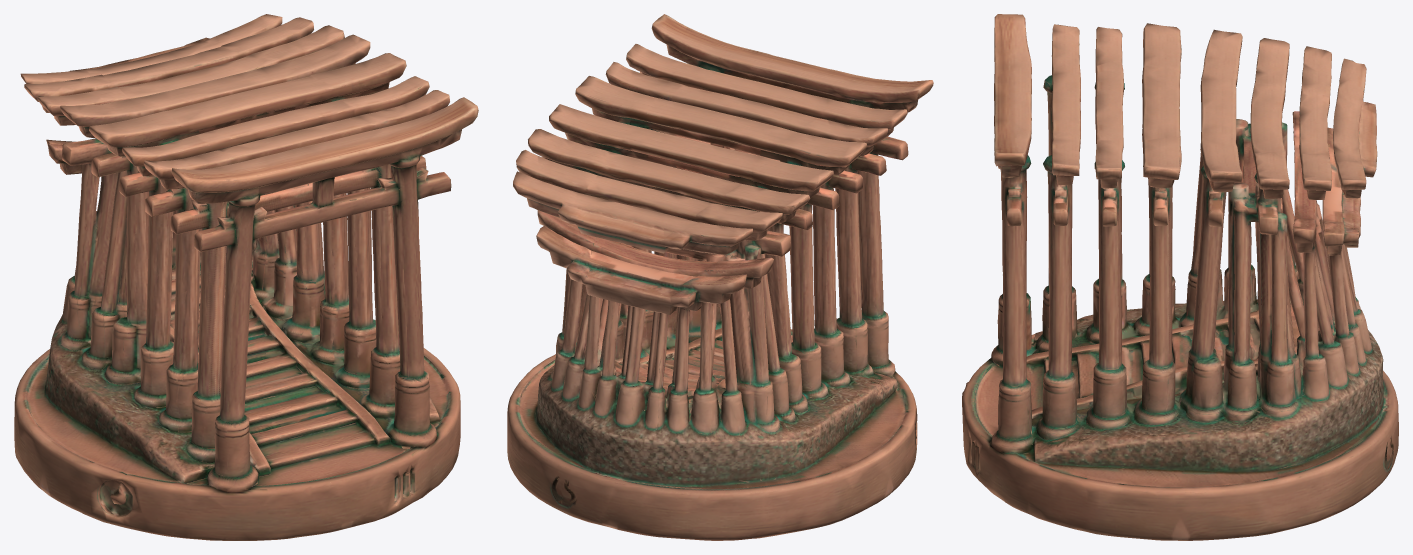
The model's file is fushimi_inari_bronze.glb.
3 renders of one model, left to right at view 1: azimuth 30°, elevation 25°; view 2: azimuth 150°, elevation 25°; view 3: azimuth 270°, elevation 25°, orthographic. The views are drawn at different scales.
Parts seen in each view (by area): view 1: Mesh_0; view 2: Mesh_0; view 3: Mesh_0.
Part boxes in pixels (box(x1,y1,x2,y2)): Mesh_0: box(14, 14, 478, 540); Mesh_0: box(507, 14, 933, 540); Mesh_0: box(962, 14, 1398, 540).
Size of the model in its own units: 1.91 by 1.79 by 1.91.
Materials: 1 (1 with a texture image).
